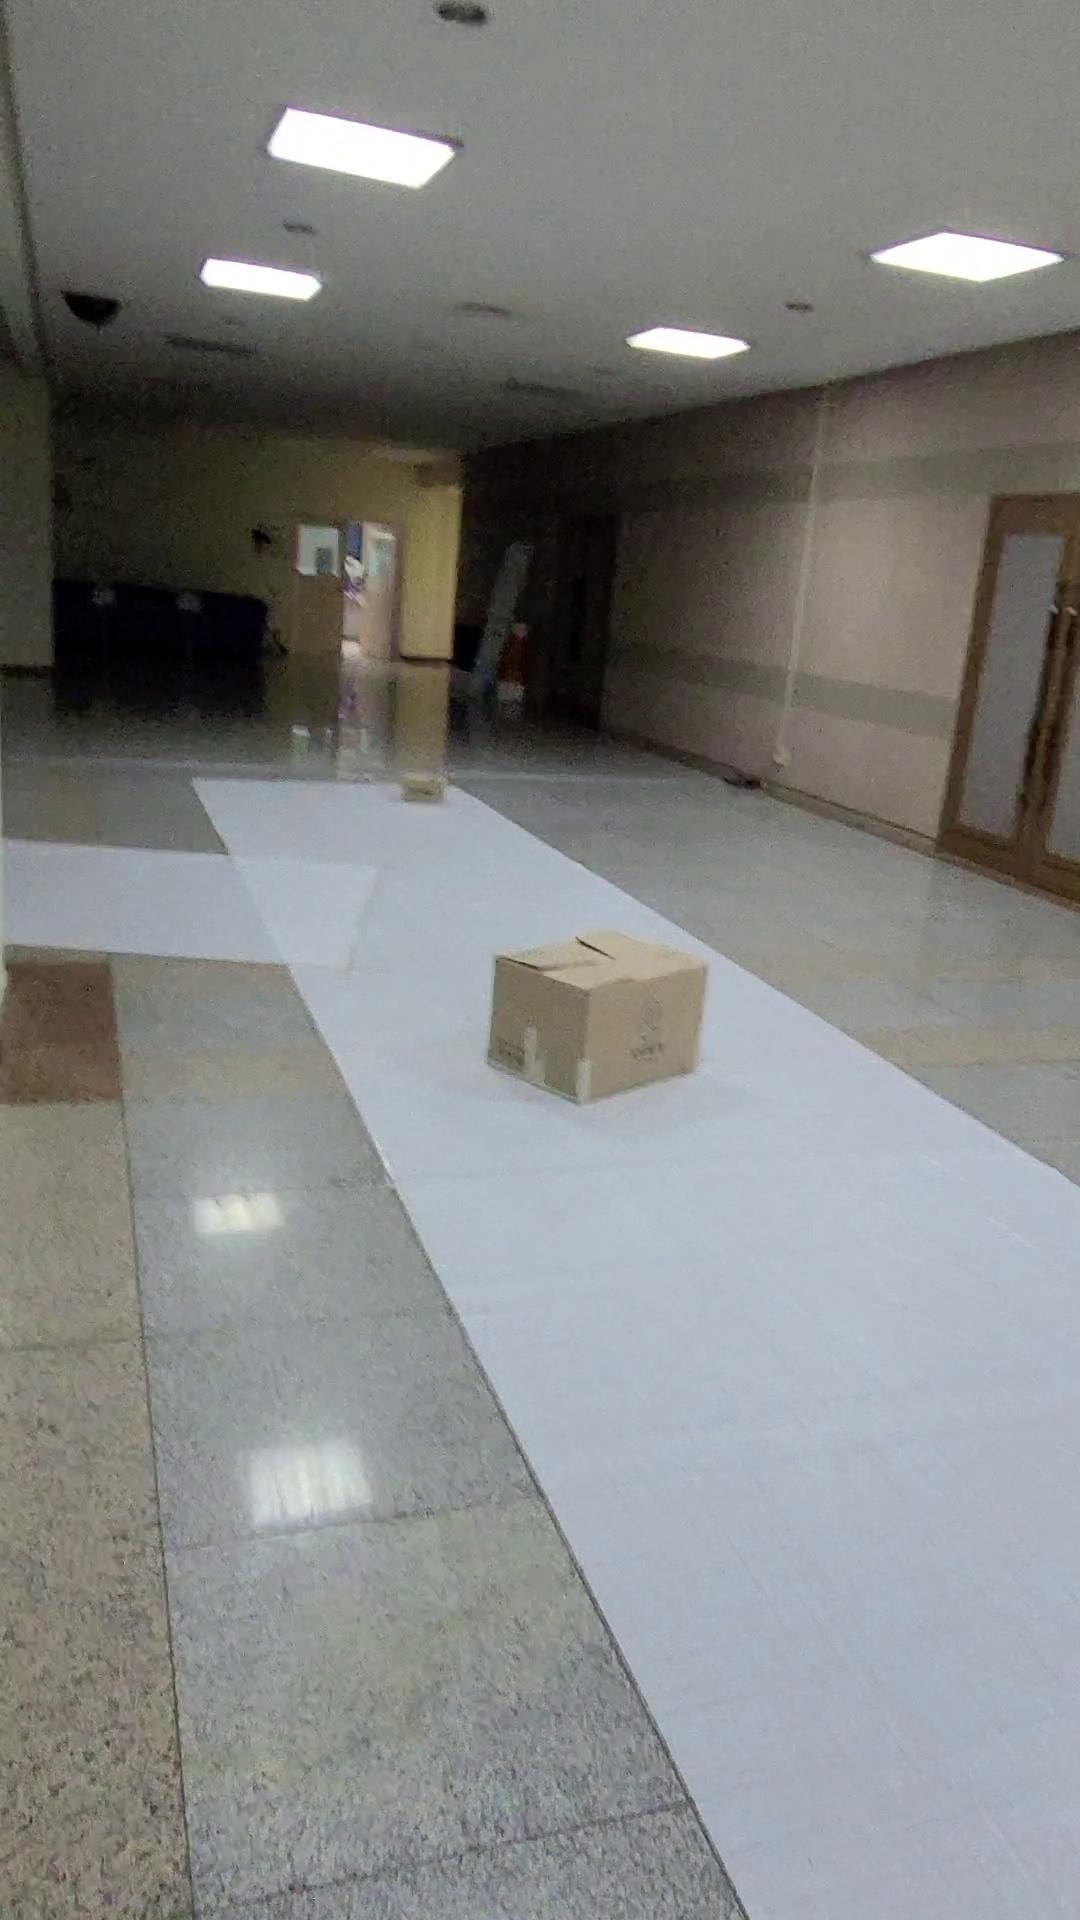Box: (448, 893, 746, 1127), (378, 750, 480, 835)
